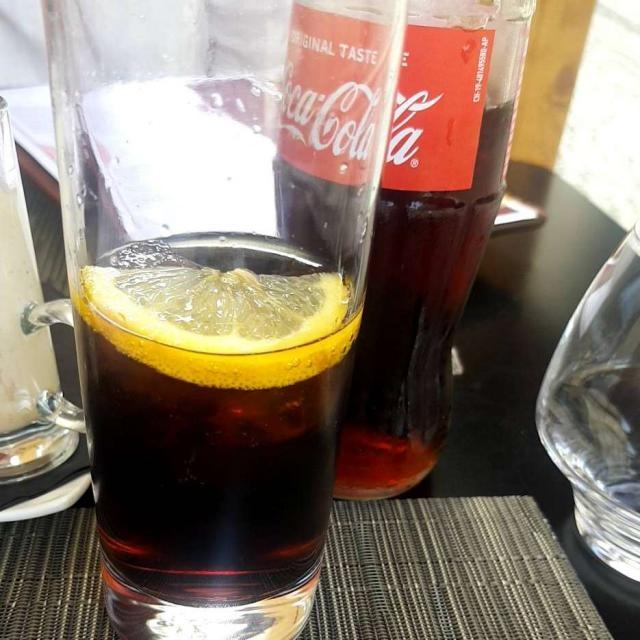coca-cola: (82, 350, 342, 615)
lemon: (84, 245, 352, 348)
